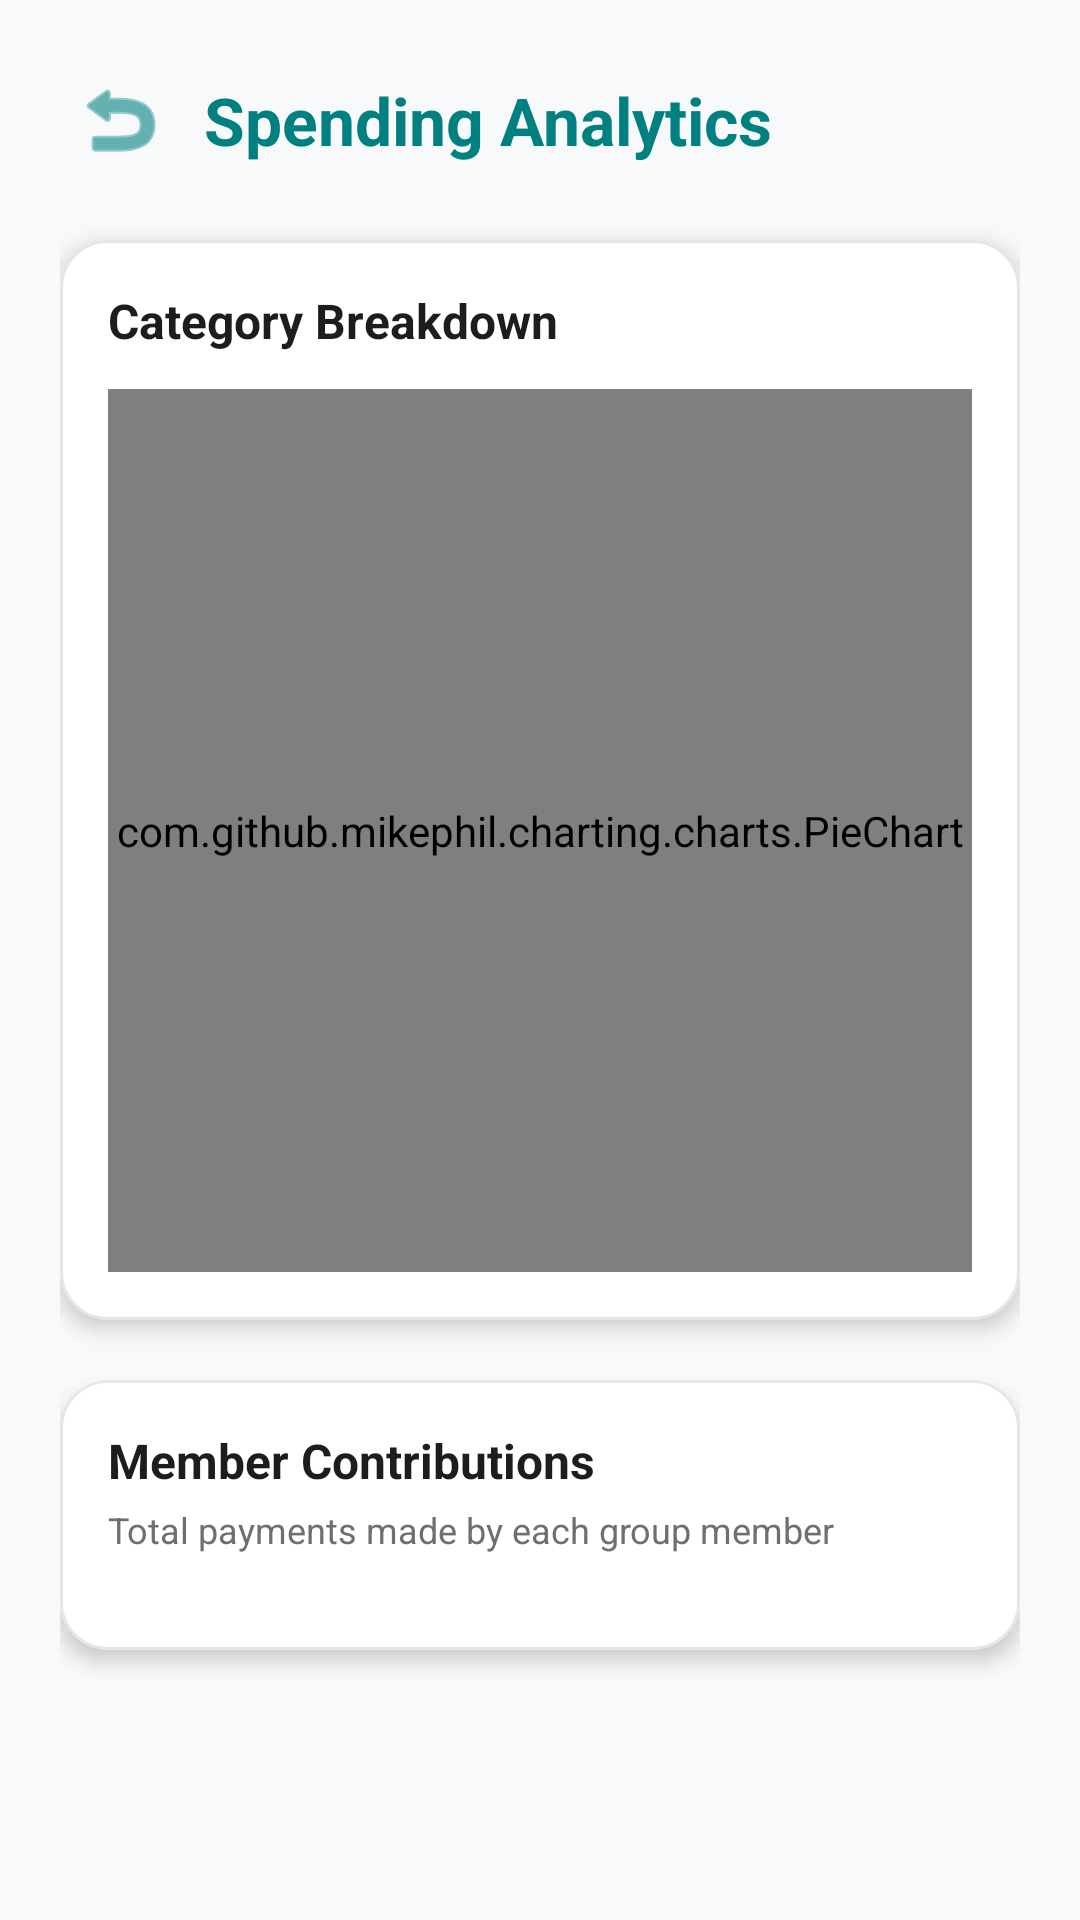

Icon bounding boxes for this 1080x1920 phone screenshot, format (x1,y1,x2,y2):
Back: (87,89,156,152)
